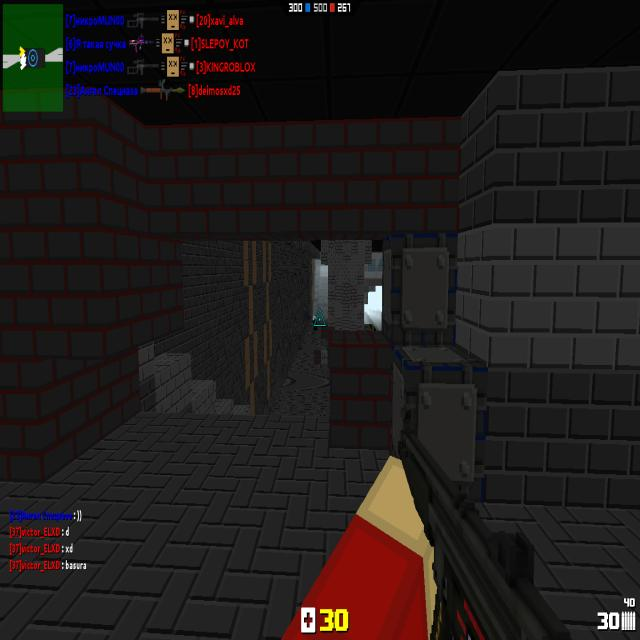enemy: (312, 314, 318, 332)
